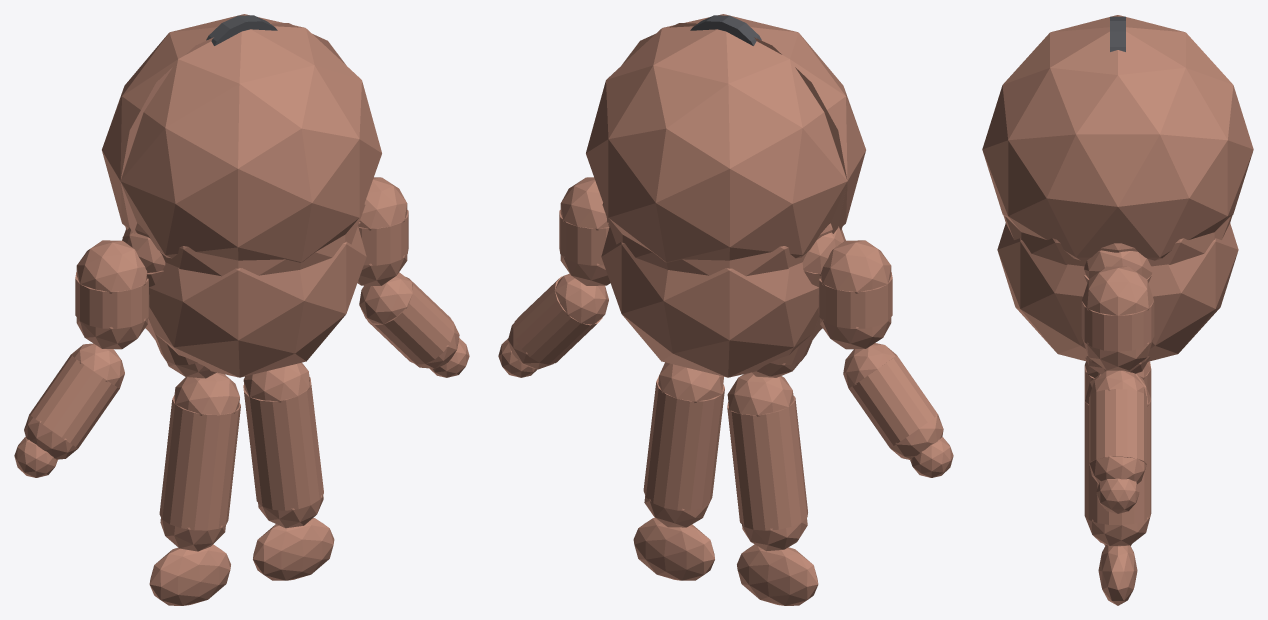
Rendered from 69100baa-fd6d-459b-ba6f-7f7362d00923.glb.
3 views of the same model, side by side, from view 1: azimuth 30°, elevation 25°; view 2: azimuth 150°, elevation 25°; view 3: azimuth 270°, elevation 25° (orthographic). The views are drawn at different scales.
Parts seen in each view (by area): view 1: world; view 2: world; view 3: world.
Part boxes in pixels (x1,y1,x2,y2): world: (14, 14, 469, 605); world: (498, 14, 953, 605); world: (982, 15, 1253, 605).
Size of the model in its own units: 1.13 by 1.38 by 0.6121.
